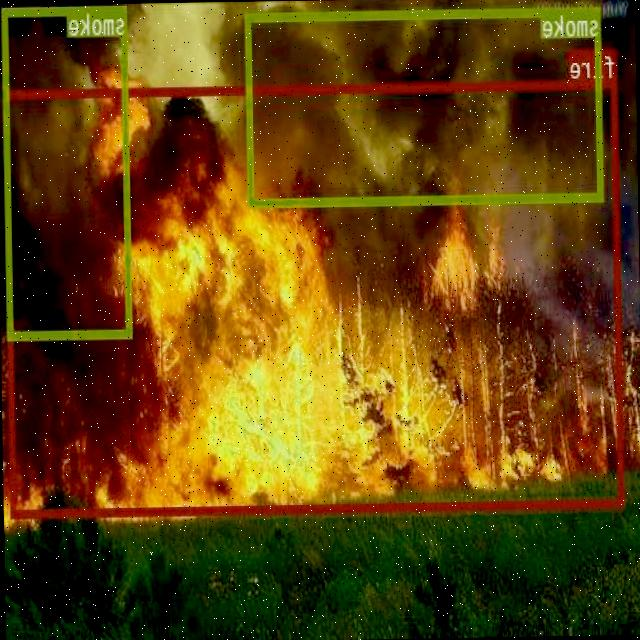fire: (4, 77, 625, 516)
smoke: (246, 7, 604, 205), (3, 5, 133, 338)
